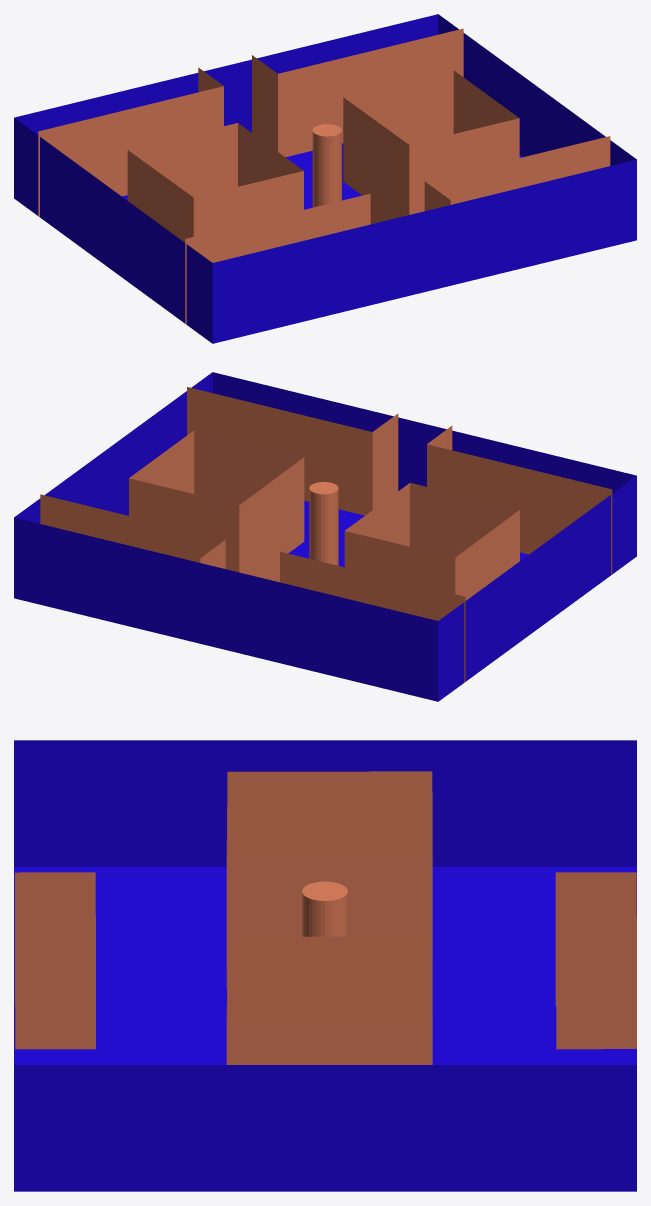
File: non.glb
The picture shows the model from 3 angles, top to bottom: view 1: azimuth 30°, elevation 25°; view 2: azimuth 150°, elevation 25°; view 3: azimuth 270°, elevation 25°; orthographic projection. The views are drawn at different scales.
Parts seen in each view (by area): view 1: Plane, Plane.005, Plane.006, Plane.003, Plane.004, Plane.001, Plane.002, Cylinder; view 2: Plane, Plane.005, Plane.006, Plane.002, Plane.001, Plane.004, Plane.003, Cylinder; view 3: Plane, Plane.006, Plane.005, Plane.002, Plane.003, Plane.004, Plane.001, Cylinder.
Boxes of the visible parts, <box> form: Plane: <box>14,14,636,343</box>; Plane.005: <box>343,70,519,217</box>; Plane.006: <box>127,123,303,242</box>; Plane.003: <box>252,28,463,157</box>; Plane.004: <box>38,67,223,216</box>; Plane.001: <box>185,193,396,324</box>; Plane.002: <box>424,136,610,210</box>; Cylinder: <box>312,124,341,207</box>; Plane: <box>14,372,636,701</box>; Plane.005: <box>129,430,304,575</box>; Plane.006: <box>344,483,519,600</box>; Plane.002: <box>187,387,398,515</box>; Plane.001: <box>427,426,612,574</box>; Plane.004: <box>254,551,465,682</box>; Plane.003: <box>40,494,225,568</box>; Cylinder: <box>309,482,338,565</box>; Plane: <box>14,740,636,1191</box>; Plane.006: <box>226,771,432,988</box>; Plane.005: <box>226,936,432,1064</box>; Plane.002: <box>15,915,95,1049</box>; Plane.003: <box>556,915,636,1049</box>; Plane.004: <box>555,872,636,1005</box>; Plane.001: <box>15,872,95,1006</box>; Cylinder: <box>302,881,347,936</box>.
Bounding box in the file's own units: 33.56 × 6.76 × 27.12.
